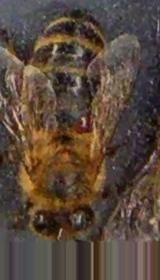varroa_mite: (67, 113, 95, 133)
